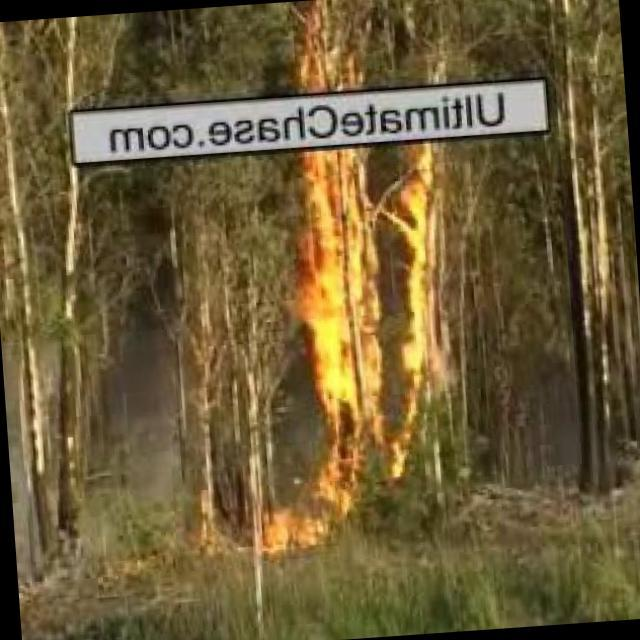Fire: (290, 148, 459, 481), (258, 484, 380, 552), (289, 11, 367, 95)
